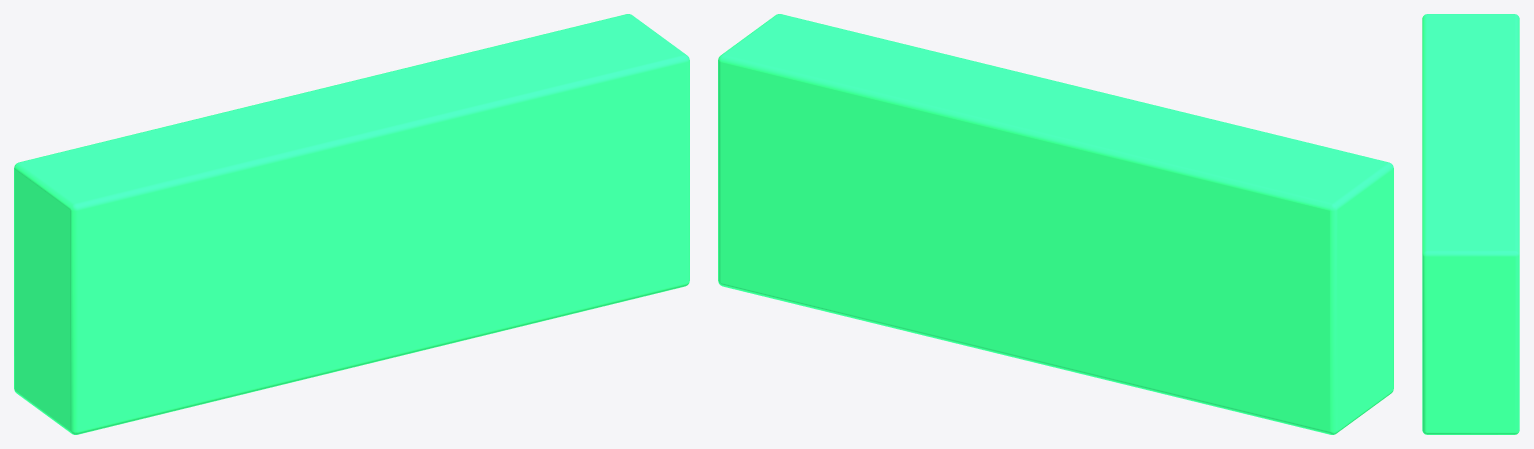
File: ExitSign.fbx
3 views of the same model, side by side, from view 1: azimuth 30°, elevation 25°; view 2: azimuth 150°, elevation 25°; view 3: azimuth 270°, elevation 25° (orthographic). The views are drawn at different scales.
Visible parts, largest first — view 1: ExitSign; view 2: ExitSign; view 3: ExitSign.
Boxes of the visible parts, <box> form: ExitSign: <box>14,14,689,434</box>; ExitSign: <box>718,14,1393,434</box>; ExitSign: <box>1422,14,1519,434</box>.
Size of the model in its own units: 0.07 by 0.025 by 0.012.
